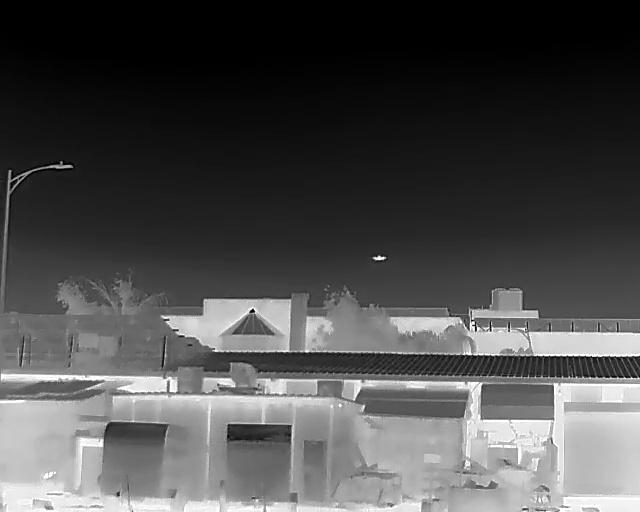fpv-drone: (371, 254, 386, 261)
